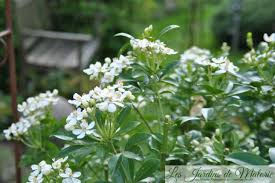flower: (57, 165, 90, 183), (96, 100, 129, 115), (71, 120, 97, 139)
